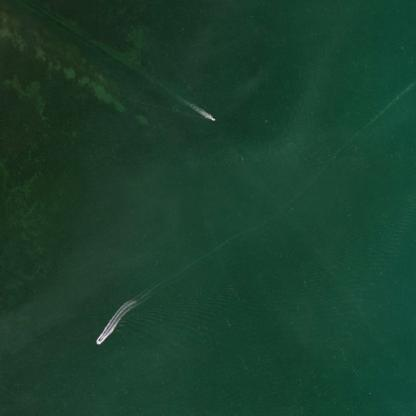ship: (90, 328, 107, 350), (204, 108, 218, 126)
